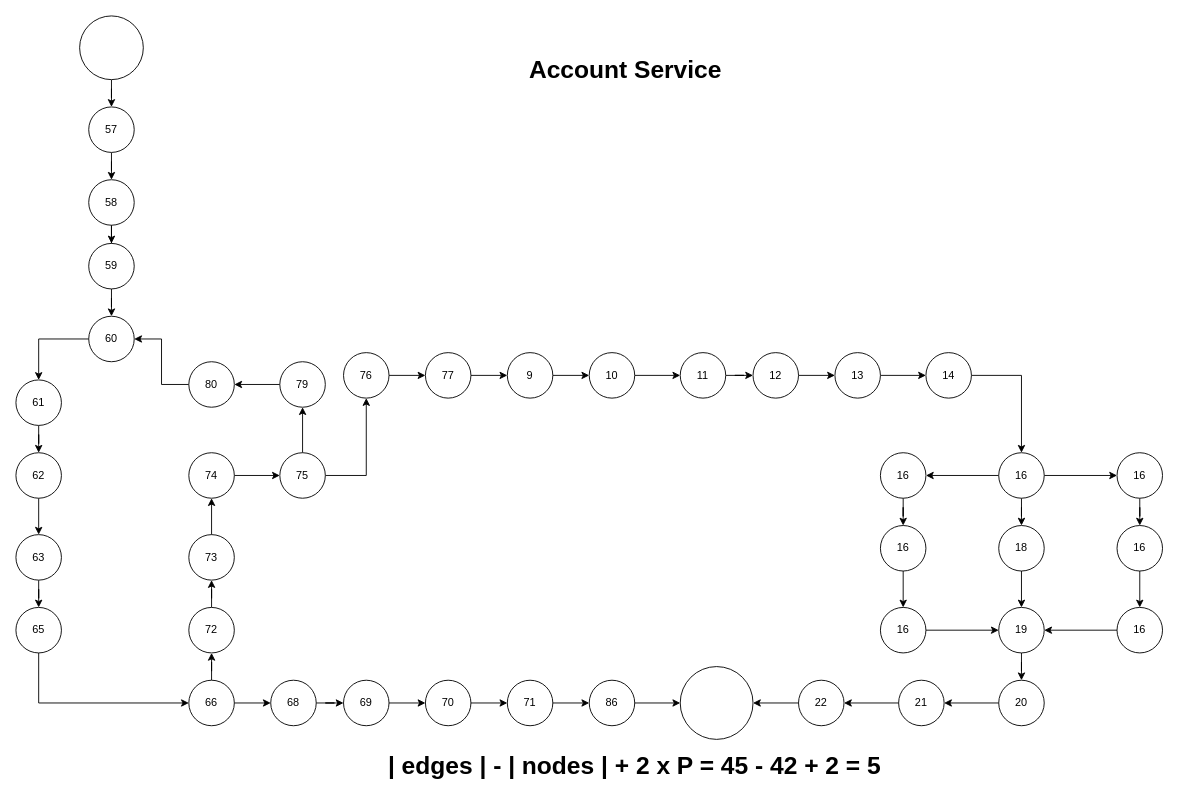
Image size: 1178x810. Some labels were removed from this diagram. The centre of each missing label's shape, as x and y in pixels:
end: the point at 716,702
start: the point at 111,47
